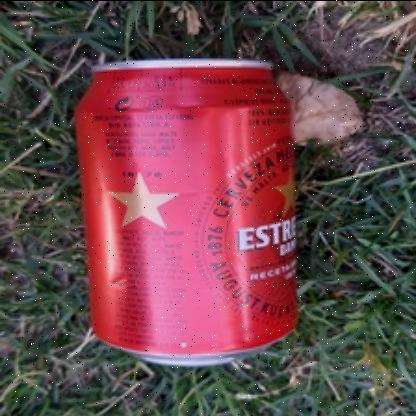Can: (72, 58, 296, 364)
